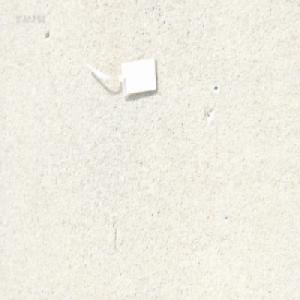LuggageTag: (86, 53, 158, 99)
